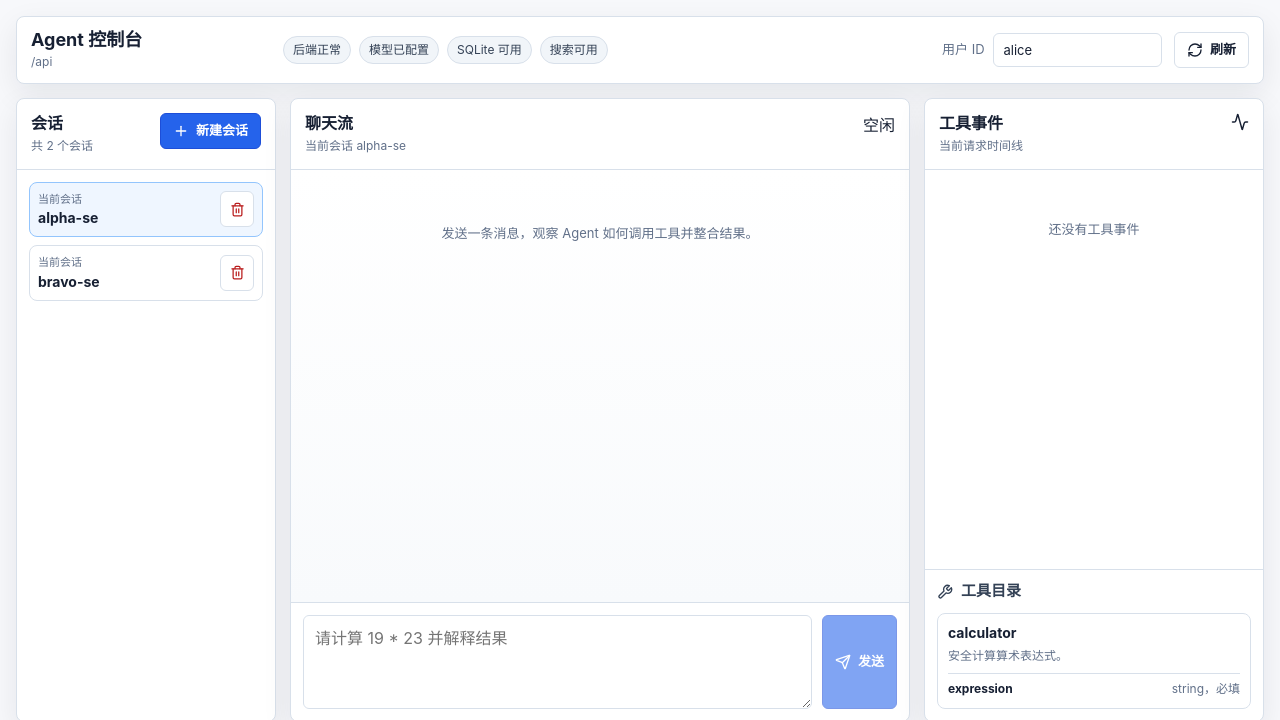
Agent 控制台 › 删除请求期间切到被删会话时删除完成后切回剩余会话
The image size is (1280, 720).
Expected: the text "alpha-se" is shown, x1=38 y1=209 x2=98 y2=226
Click the button named "删除会话 bravo-se". click: (237, 273)
box: x1=220 y1=255 x2=254 y2=291
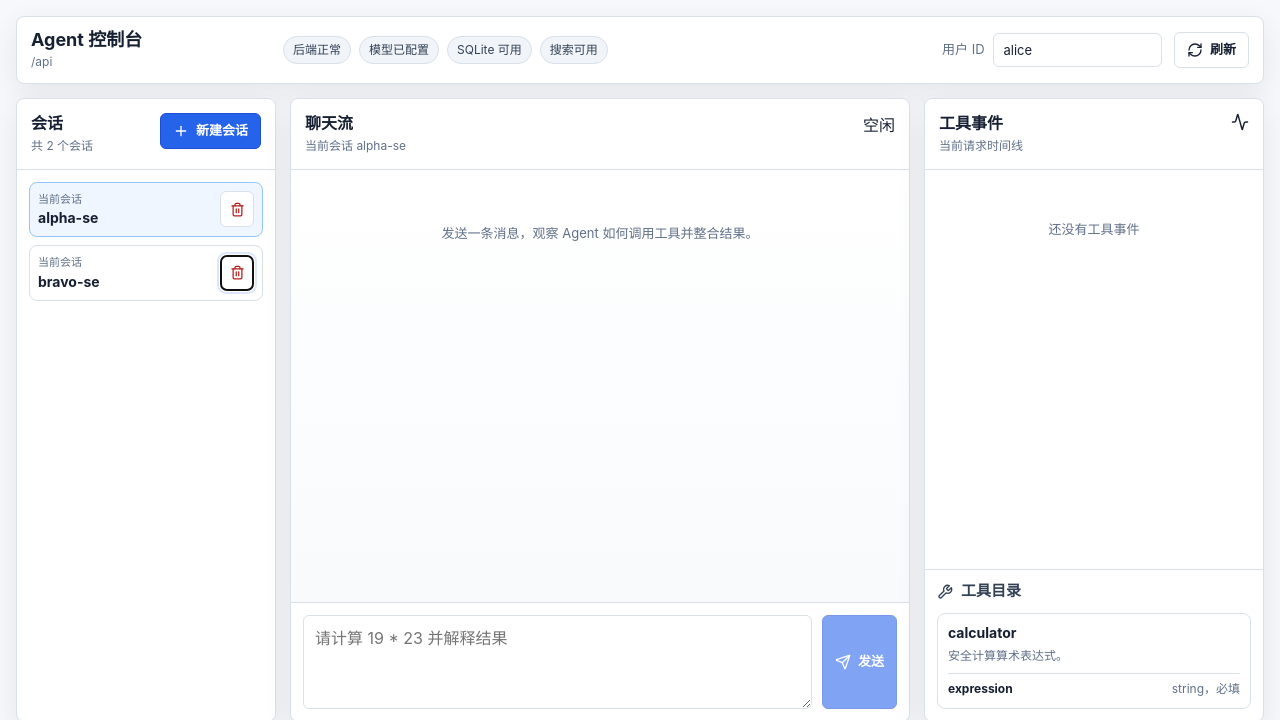
Click the text "bravo-se". click: (69, 281)
box: x1=38 y1=273 x2=100 y2=290
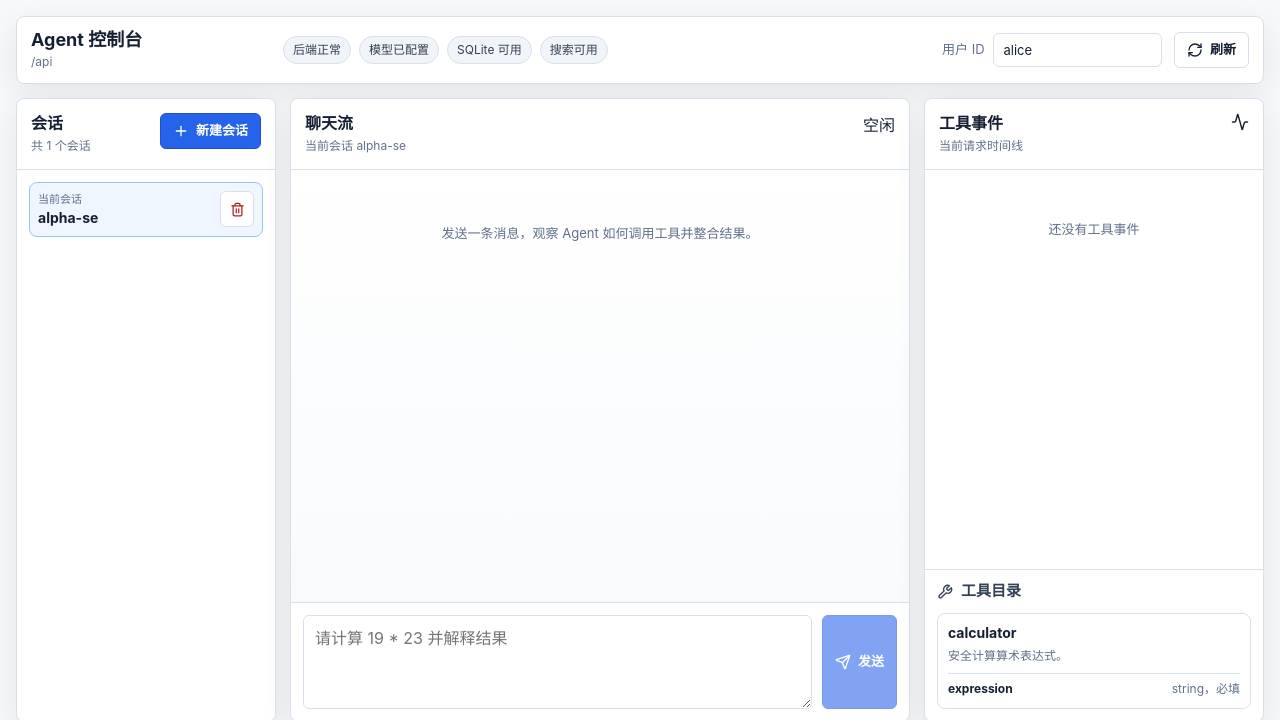
Expected: the text "当前会话 alpha-se" is shown, x1=305 y1=137 x2=406 y2=155
Expected: the button "bravo-se" is gone
